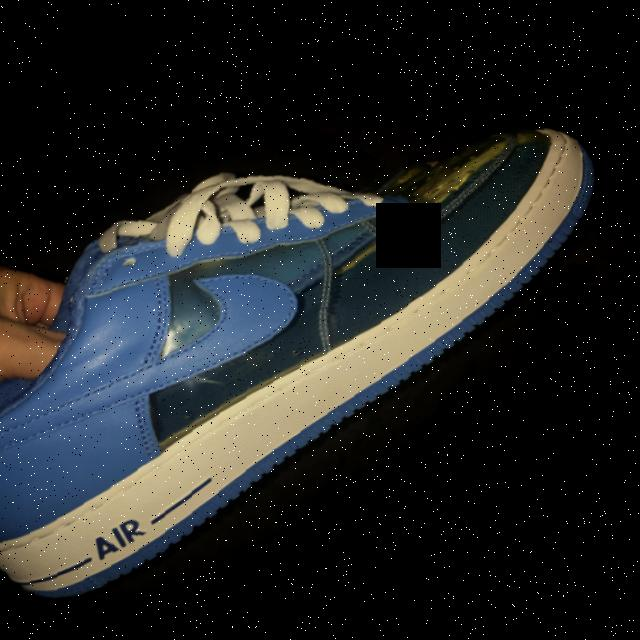shoe: (0, 100, 616, 640)
